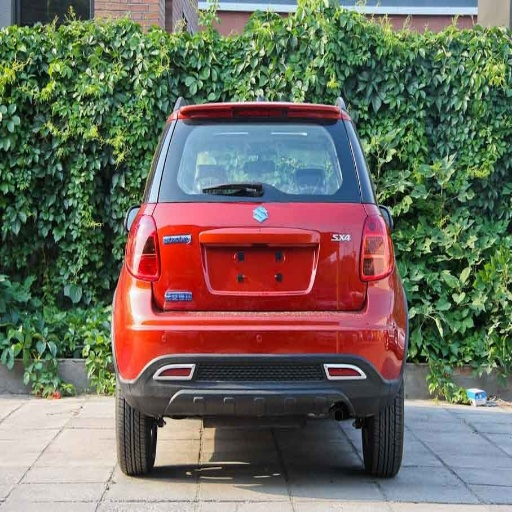back_bumper: (116, 275, 403, 415)
tailgate: (241, 255, 342, 316)
trunk: (133, 207, 374, 348)
